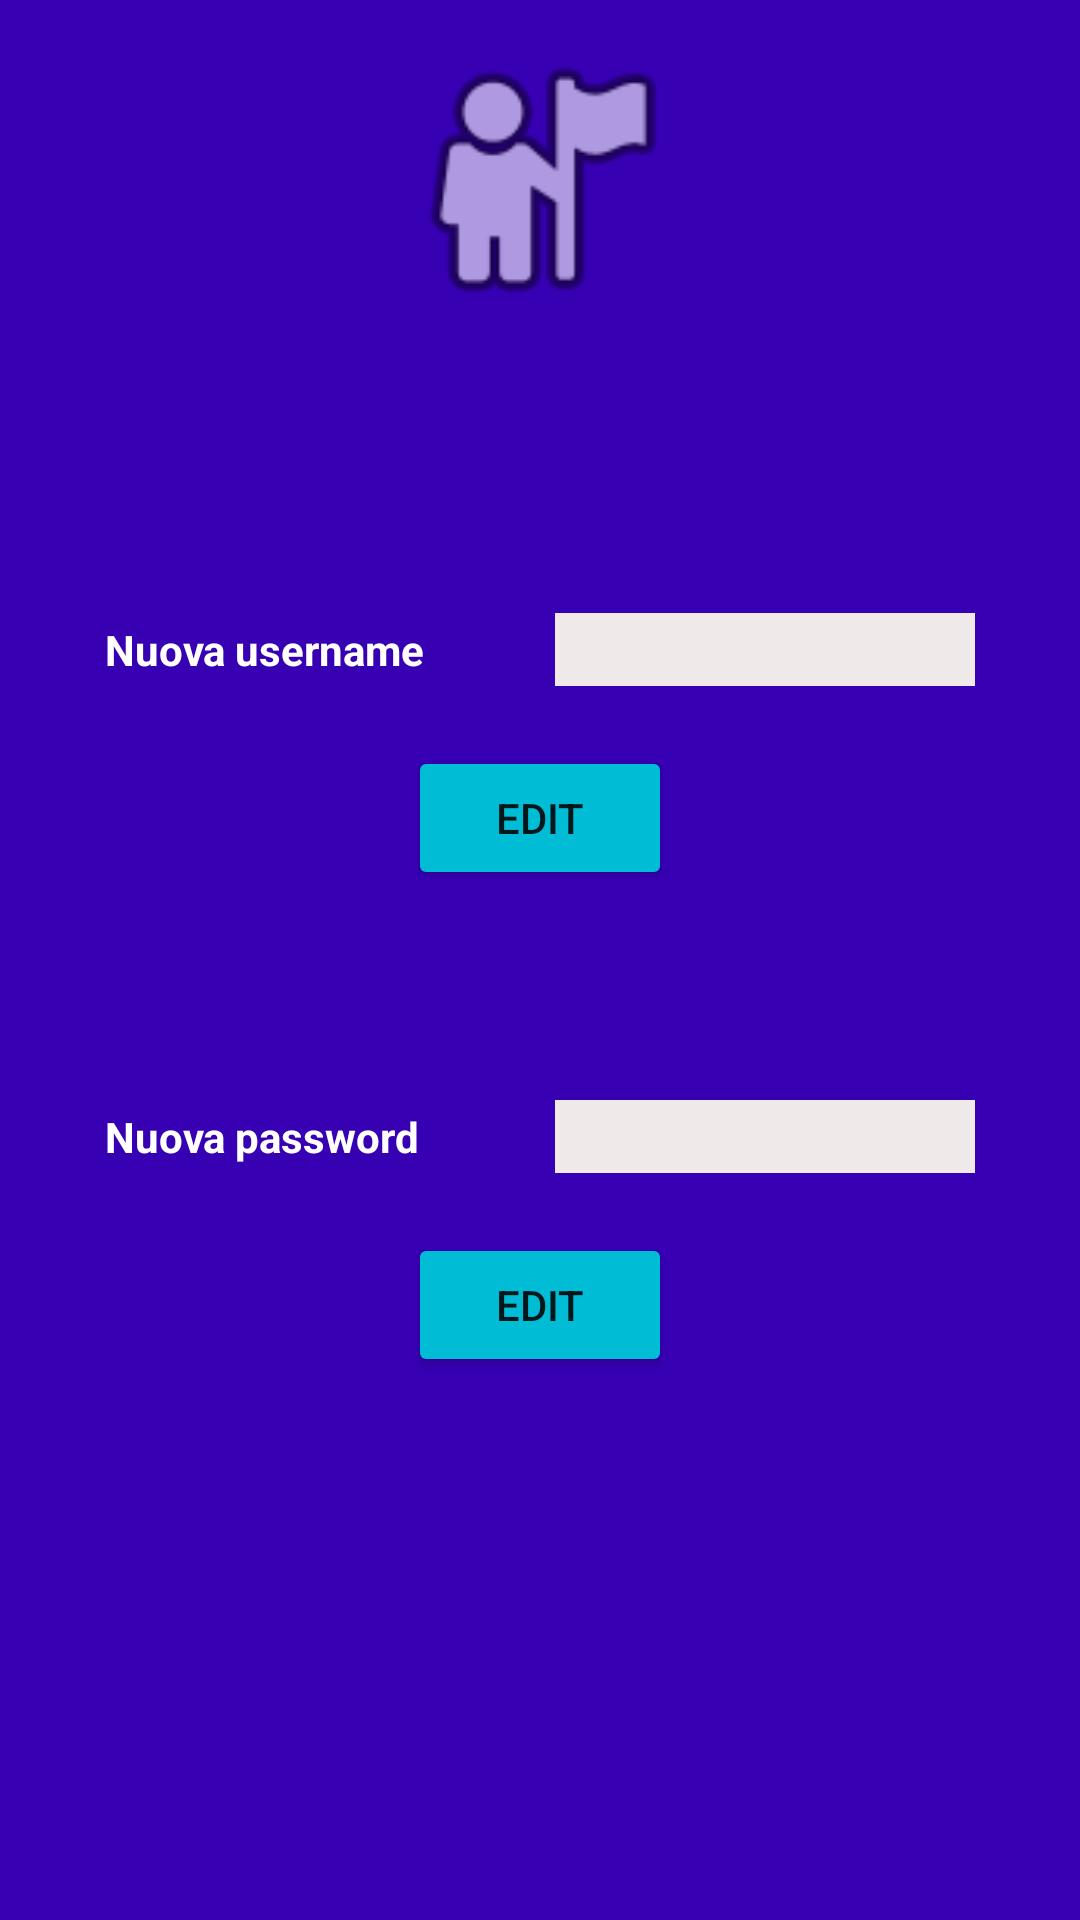

Icon bounding boxes for this 1080*1920 phone screenshot, format (x1, y1, x2, y2):
myplaces: (431, 68, 656, 292)
